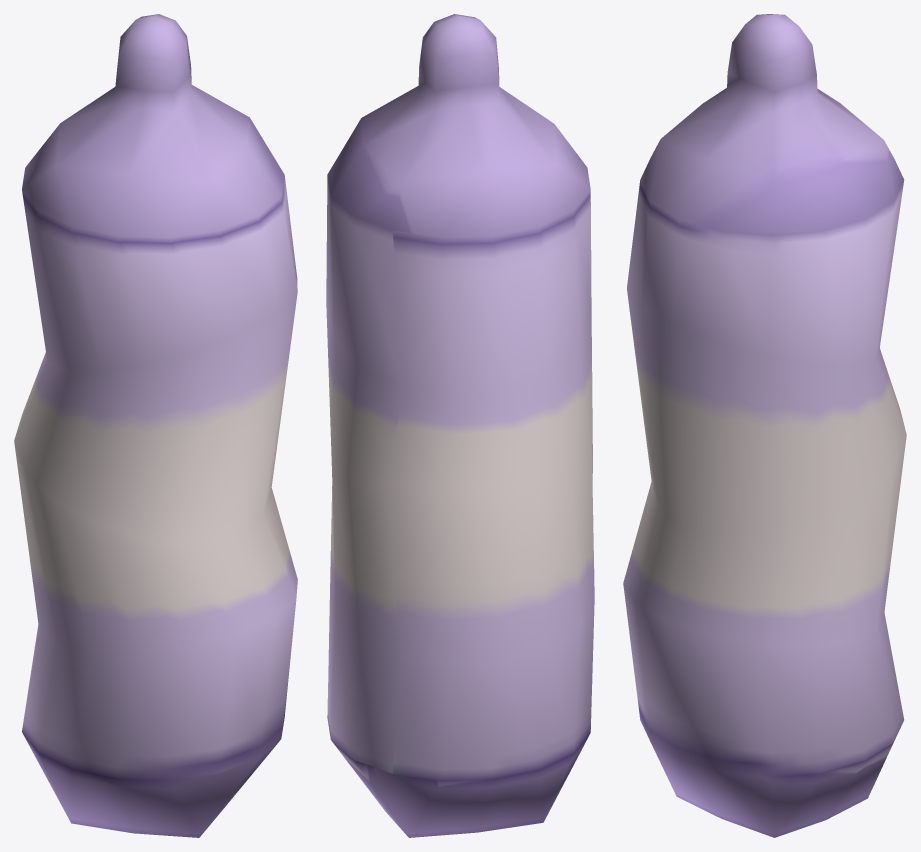
File: Garrafa.fbx
The picture shows the model from 3 angles, left to right: view 1: azimuth 30°, elevation 25°; view 2: azimuth 150°, elevation 25°; view 3: azimuth 270°, elevation 25°; orthographic projection.
Parts seen in each view (by area): view 1: Garafa; view 2: Garafa; view 3: Garafa.
Part boxes in pixels (x1,y1,x2,y2): Garafa: (14, 14, 297, 837); Garafa: (326, 14, 594, 837); Garafa: (623, 14, 906, 837).
Bounding box in the file's own units: 0.2476 × 0.7651 × 0.2513.
